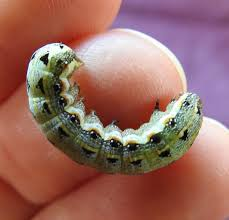Armyworm: (21, 36, 205, 174)
